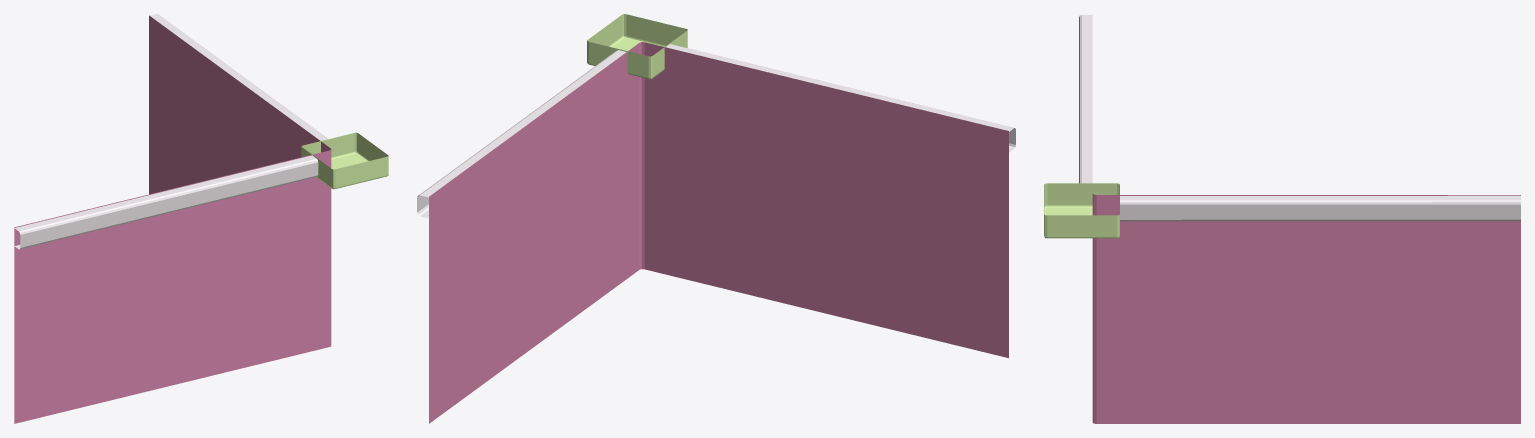
File: SM_House_Base_Corner_A2.fbx
The picture shows the model from 3 angles, left to right: view 1: azimuth 30°, elevation 25°; view 2: azimuth 150°, elevation 25°; view 3: azimuth 270°, elevation 25°; orthographic projection. The views are drawn at different scales.
Parts seen in each view (by area): view 1: SM_House_Base_Corner_A2; view 2: SM_House_Base_Corner_A2; view 3: SM_House_Base_Corner_A2.
Boxes of the visible parts, <box> form: SM_House_Base_Corner_A2: <box>14,14,388,423</box>; SM_House_Base_Corner_A2: <box>417,14,1015,423</box>; SM_House_Base_Corner_A2: <box>1044,15,1520,423</box>.
Bounding box in the file's own units: 94.3 × 94.3 × 50.
